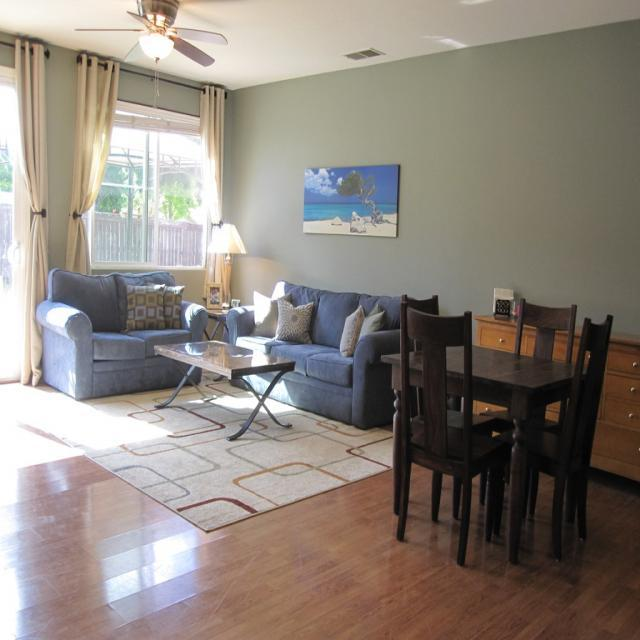fan_off: (73, 0, 222, 76)
